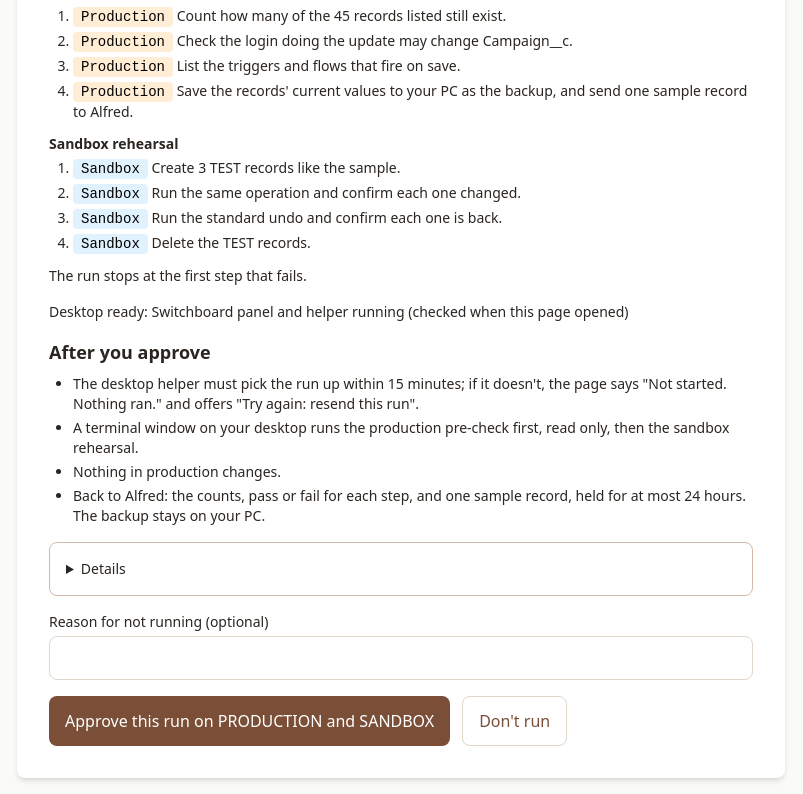
the red bar and the Approve button always appear together › precheck-ids, desktop ready, then approved
(page scrolled)
Check: the text with test id "run-desktop" does not show "Checking", box left=49, top=302, right=628, bottom=321
Click the button "Approve this run on PRODUCTION and SANDBOX". click: (250, 721)
box: left=49, top=696, right=450, bottom=746
(page scrolled)
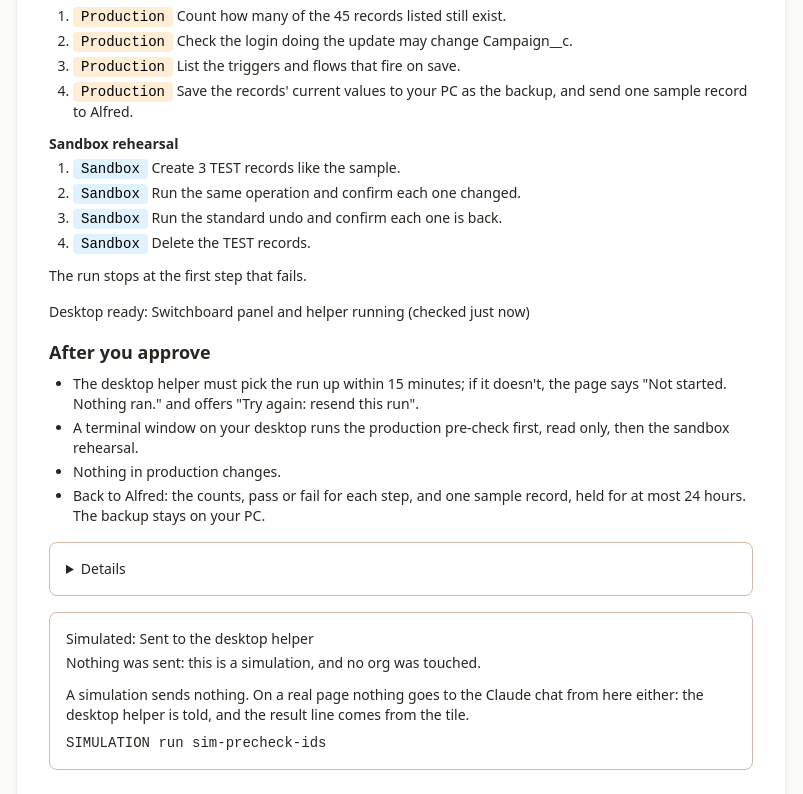
Check: the element with test id "run-sent" is shown, box left=49, top=612, right=753, bottom=770
